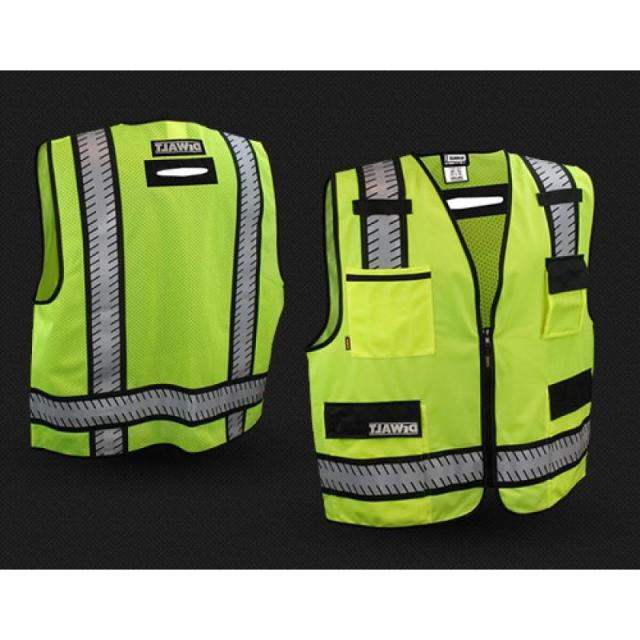Reflective-Jacket: (299, 144, 604, 538), (11, 116, 298, 467)
